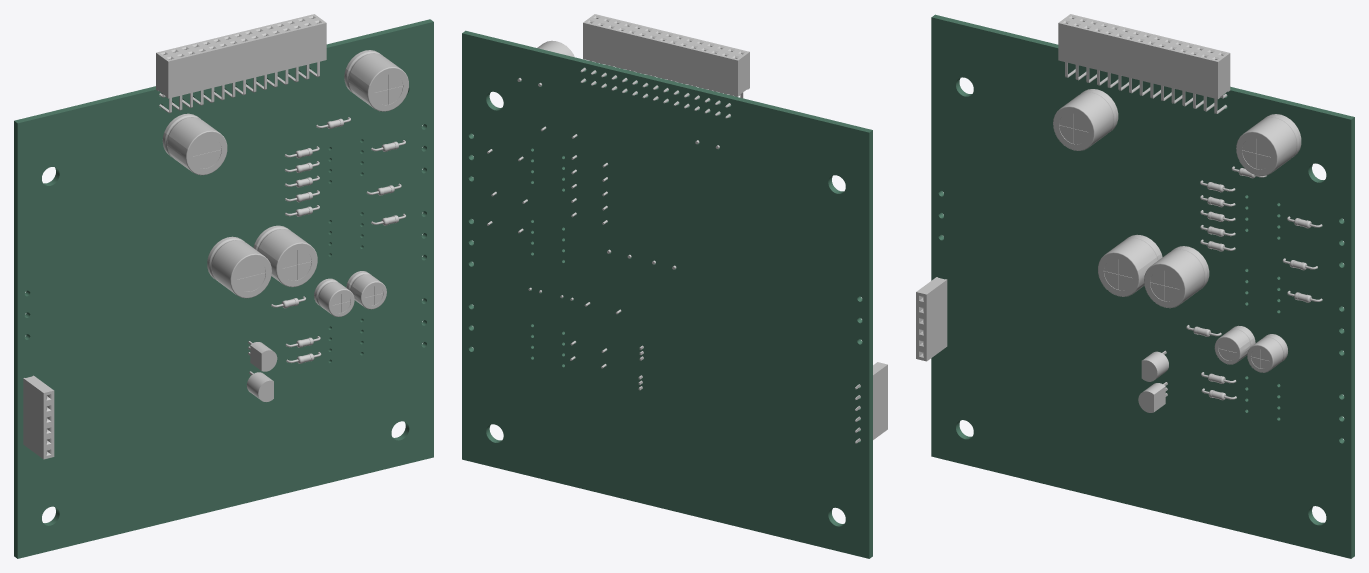
Rendered from Project4.glb.
The picture shows the model from 3 angles, left to right: view 1: azimuth 30°, elevation 25°; view 2: azimuth 150°, elevation 25°; view 3: azimuth 330°, elevation 25°; orthographic projection. The views are drawn at different scales.
Parts seen in each view (by area): view 1: empty_24, empty_11, empty_23, empty_2, empty_20, empty_14, empty_15, empty_7, empty_4, empty_13, empty_5; view 2: empty_24, empty_11, empty_15; view 3: empty_24, empty_11, empty_14, empty_20, empty_23, empty_2, empty_15, empty_4, empty_7, empty_5, empty_13.
Boxes of the visible parts, left/top/right/bottom form: empty_24: left=14, top=19, right=433, bottom=558; empty_11: left=156, top=14, right=326, bottom=113; empty_23: left=162, top=113, right=227, bottom=175; empty_2: left=207, top=236, right=271, bottom=298; empty_20: left=344, top=50, right=408, bottom=111; empty_14: left=253, top=225, right=317, bottom=287; empty_15: left=23, top=375, right=54, bottom=459; empty_7: left=314, top=278, right=354, bottom=316; empty_4: left=346, top=271, right=386, bottom=309; empty_13: left=248, top=341, right=277, bottom=371; empty_5: left=246, top=371, right=273, bottom=401; empty_24: left=462, top=30, right=872, bottom=558; empty_11: left=580, top=14, right=749, bottom=118; empty_15: left=855, top=362, right=887, bottom=443; empty_24: left=931, top=14, right=1354, bottom=558; empty_11: left=1058, top=14, right=1230, bottom=113; empty_14: left=1144, top=246, right=1209, bottom=308; empty_20: left=1236, top=114, right=1301, bottom=176; empty_23: left=1053, top=89, right=1118, bottom=150; empty_2: left=1098, top=234, right=1162, bottom=296; empty_15: left=916, top=277, right=947, bottom=361; empty_4: left=1247, top=334, right=1287, bottom=372; empty_7: left=1214, top=325, right=1255, bottom=364; empty_5: left=1138, top=382, right=1167, bottom=412; empty_13: left=1141, top=350, right=1168, bottom=381.
Size of the model in its own units: 100 by 109 by 13.1.
